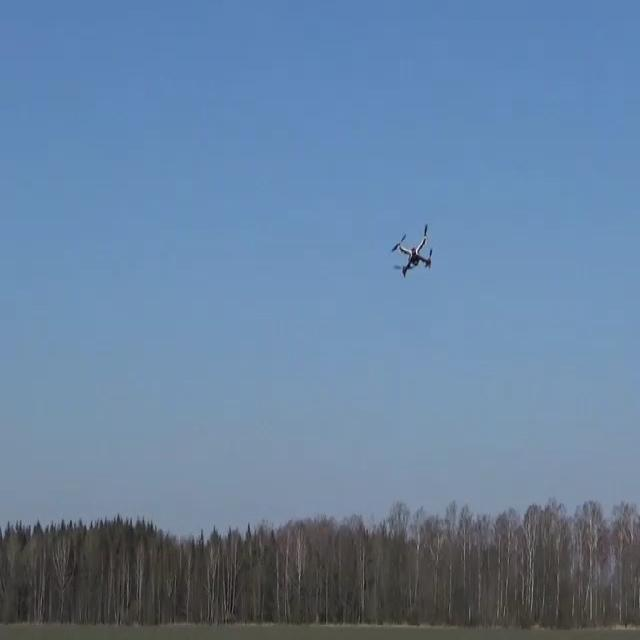drone: (390, 222, 432, 278)
